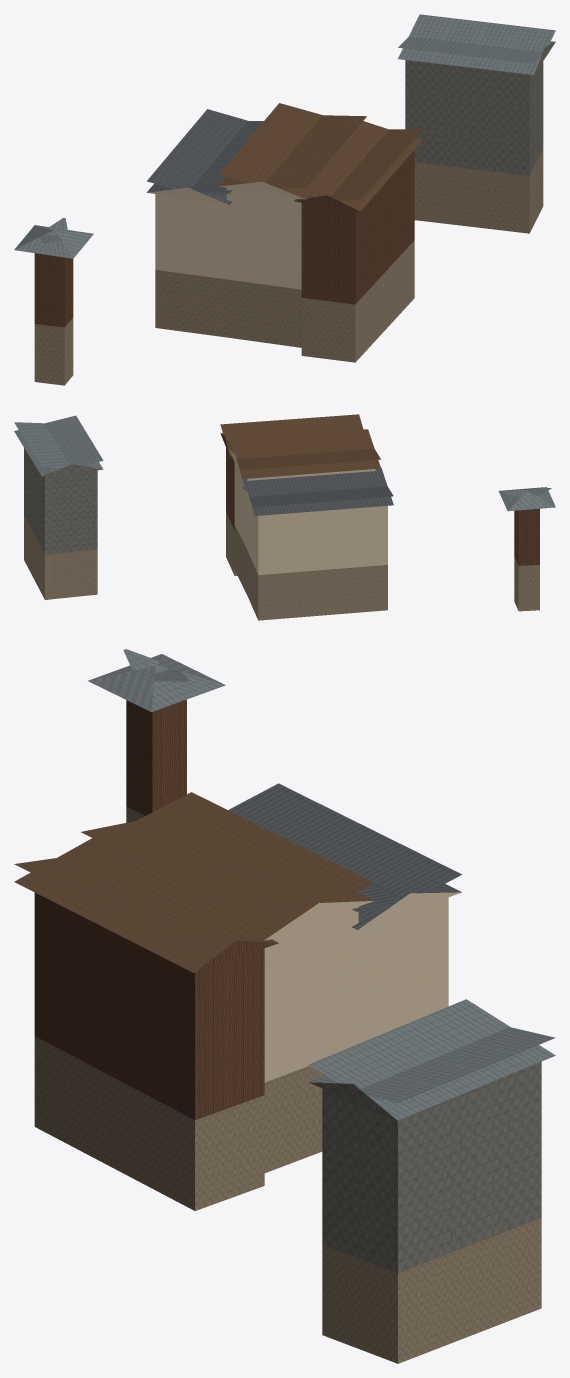
Rendered from bld_c15_37_412.gltf.
The picture shows the model from 3 angles, top to bottom: view 1: azimuth 30°, elevation 25°; view 2: azimuth 150°, elevation 25°; view 3: azimuth 270°, elevation 25°; orthographic projection. The views are drawn at different scales.
Parts seen in each view (by area): view 1: bld_c15_37_412; view 2: bld_c15_37_412; view 3: bld_c15_37_412.
Part boxes in pixels (<box>): bld_c15_37_412: <box>14,14,555,385</box>; bld_c15_37_412: <box>14,414,555,620</box>; bld_c15_37_412: <box>14,649,555,1363</box>.
Size of the model in its own units: 56.72 by 15.4 by 27.6.
10 materials, 10 textured.
